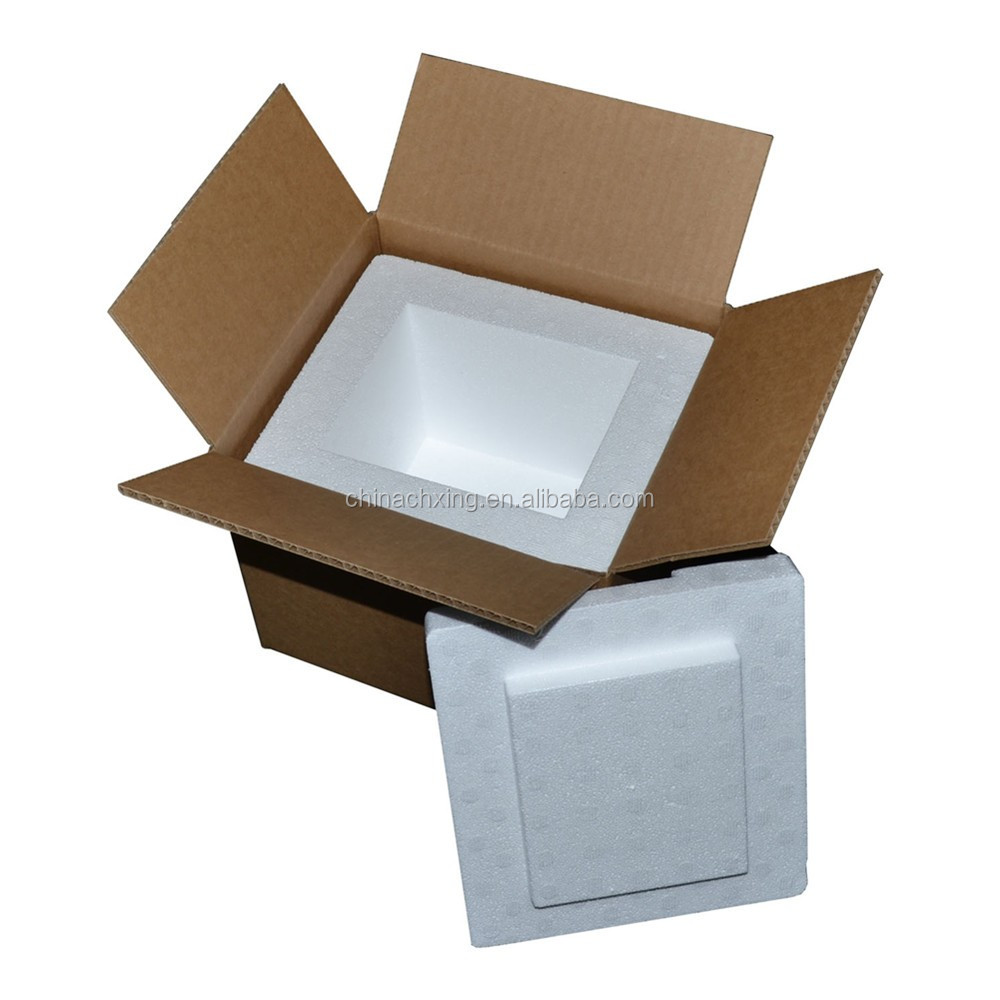Boxes: (247, 256, 710, 572)
